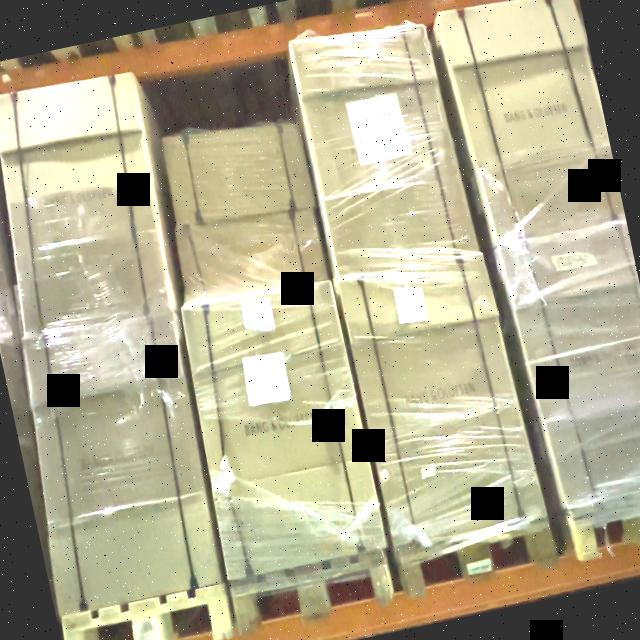box: (23, 305, 222, 616), (180, 281, 388, 578), (338, 249, 542, 542), (291, 18, 474, 277), (0, 68, 171, 333)
